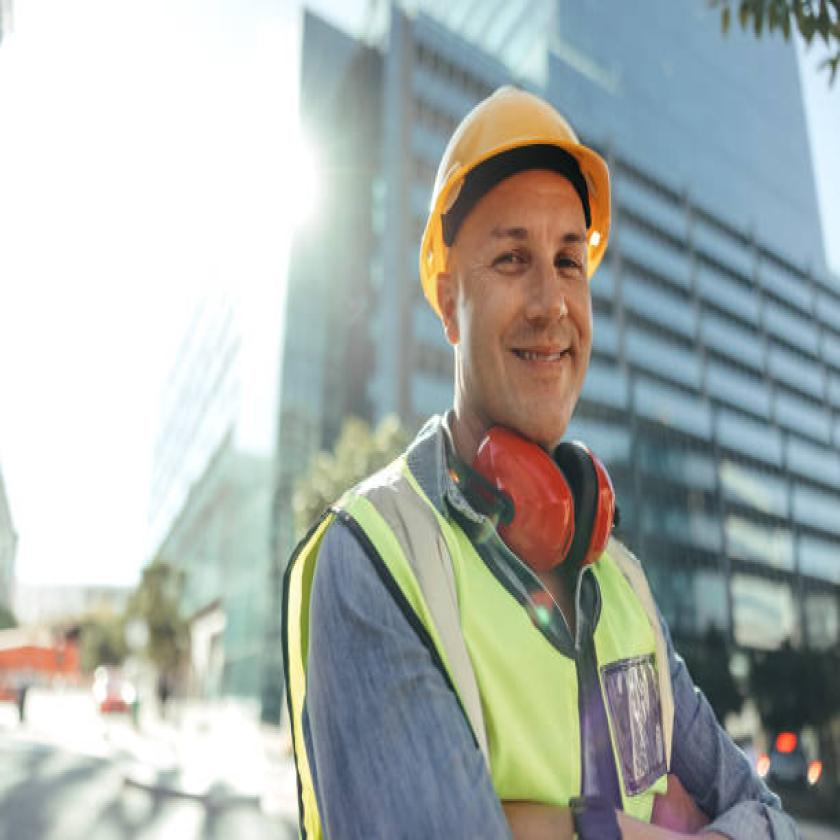Con_casco: (423, 78, 611, 472)
